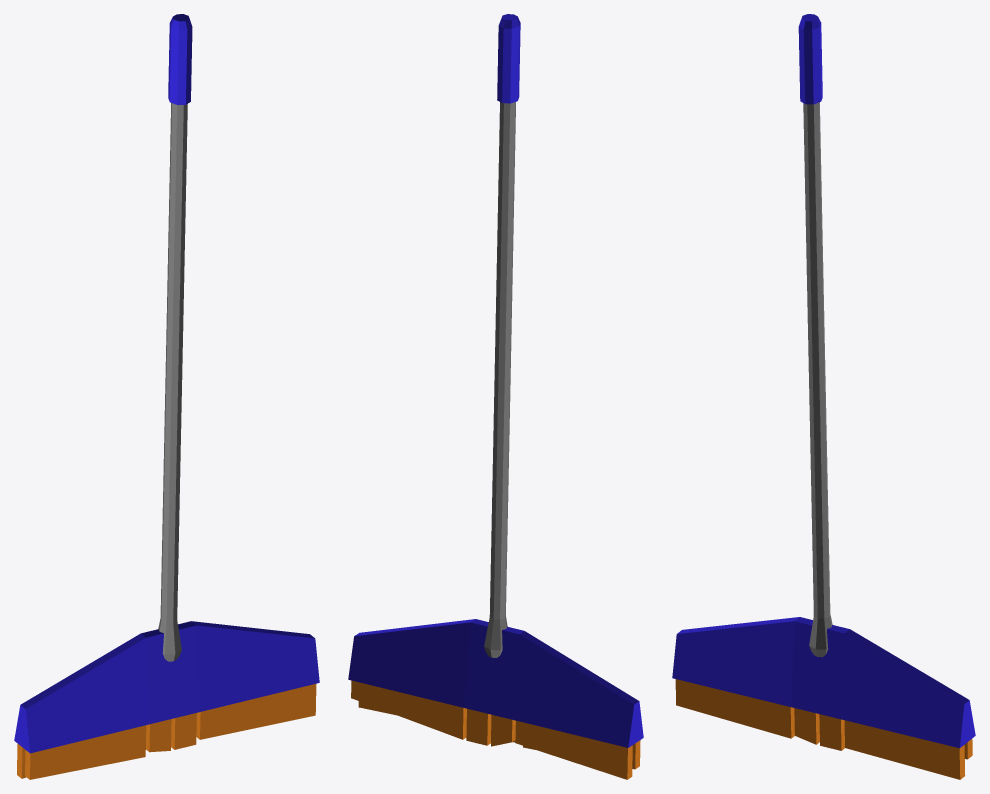
Rendered from Broom 2.fbx.
3 renders of one model, left to right at view 1: azimuth 30°, elevation 25°; view 2: azimuth 150°, elevation 25°; view 3: azimuth 330°, elevation 25°, orthographic. The views are drawn at different scales.
Parts seen in each view (by area): view 1: Broom; view 2: Broom; view 3: Broom.
Part boxes in pixels (x1,y1,x2,y2): Broom: [14, 14, 319, 779]; Broom: [348, 14, 643, 779]; Broom: [672, 14, 975, 779].
Size of the model in its own units: 0.1085 by 1.56 by 0.6395.
